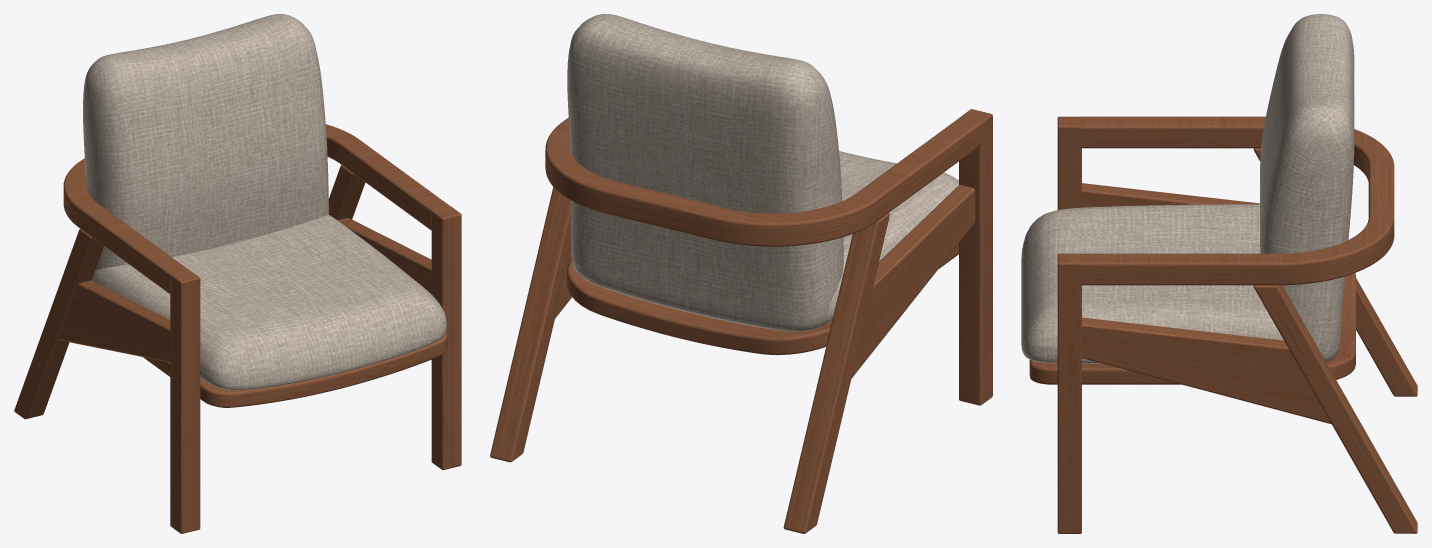
Rendered from ArcherArmChair.glb.
The picture shows the model from 3 angles, left to right: view 1: azimuth 30°, elevation 25°; view 2: azimuth 150°, elevation 25°; view 3: azimuth 270°, elevation 25°; orthographic projection. The views are drawn at different scales.
Visible parts, largest first — view 1: Upholstery, Wood; view 2: Upholstery, Wood; view 3: Wood, Upholstery.
Boxes of the visible parts, <box> form: Upholstery: <box>83,14,446,390</box>; Wood: <box>14,124,461,533</box>; Upholstery: <box>567,14,958,331</box>; Wood: <box>490,109,992,533</box>; Wood: <box>1029,116,1417,533</box>; Upholstery: <box>1021,14,1354,363</box>.
Size of the model in its own units: 6.92 by 8.79 by 7.85.
Materials: 3 (3 with a texture image).
